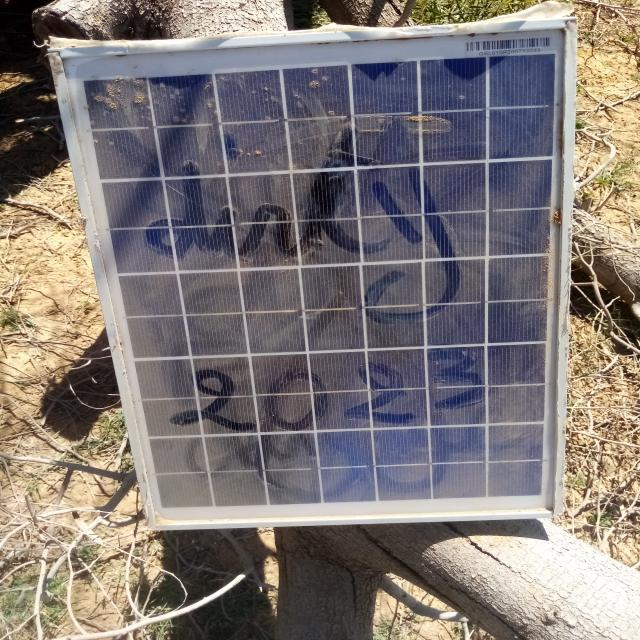faulty: (57, 23, 572, 529)
